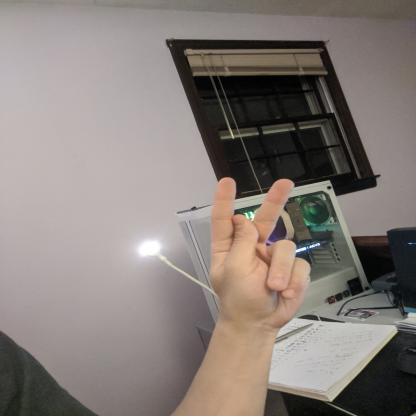K: (200, 174, 318, 336)
